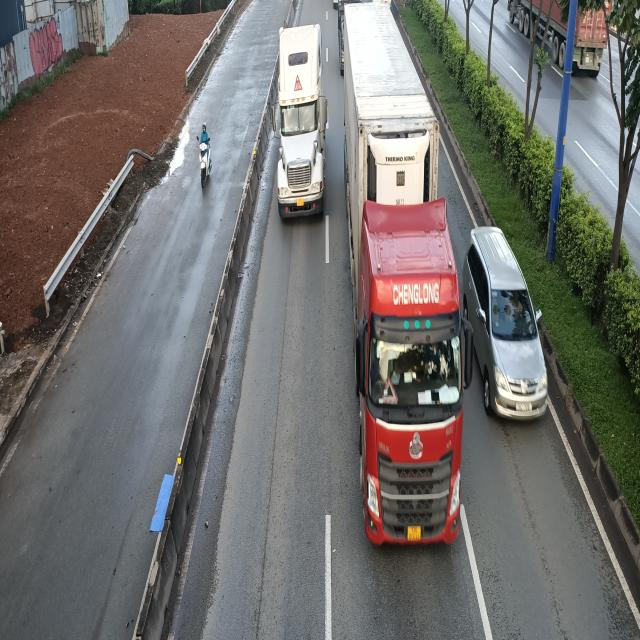car: (463, 228, 546, 425)
container: (345, 5, 467, 550), (268, 25, 327, 222)
